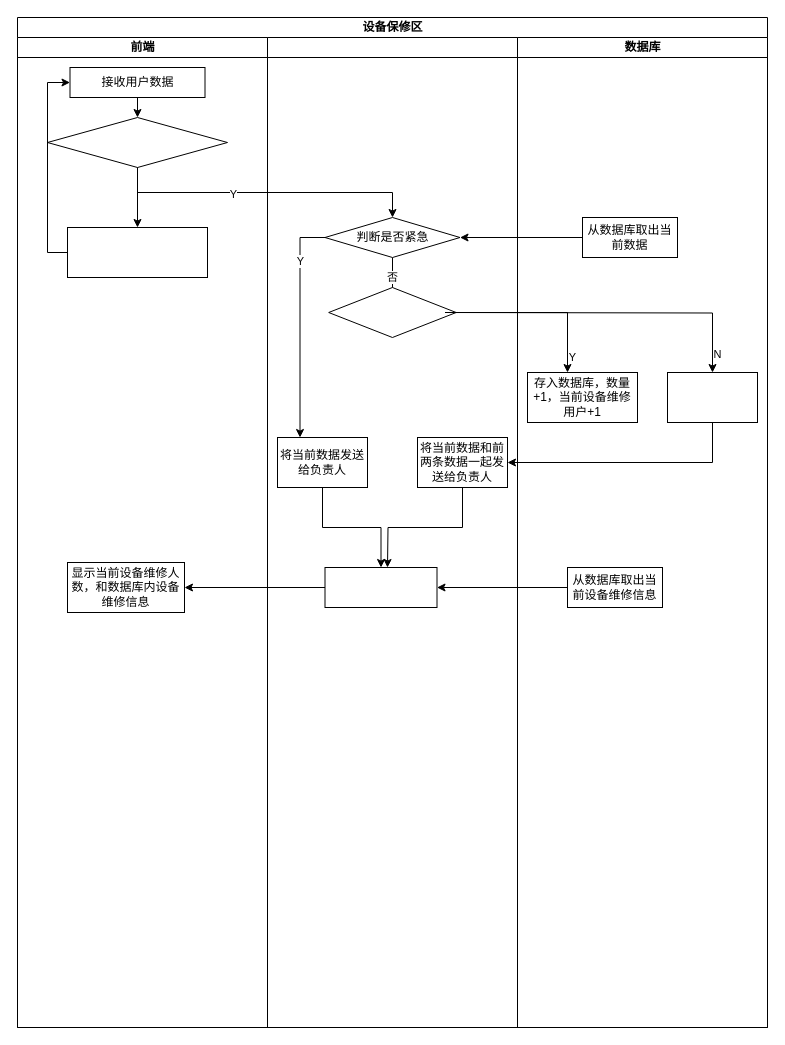
The diagram is 785 pixels wide and 1045 high, and some of its shapes have lost their labels. Here are the shapes that lost their labels. From the top down, the box of each, then its label:
(46, 116, 228, 168): 判断用户数据是否合法
(66, 226, 208, 278): 提示框提示输入不合法
(328, 286, 456, 338): 判断当前数据是否等于2
(666, 372, 758, 422): 存入数据库，数量清0，当前设备维修用户+1
(266, 36, 518, 1028): 后端
(324, 566, 437, 608): 得到当前设备维修信息
